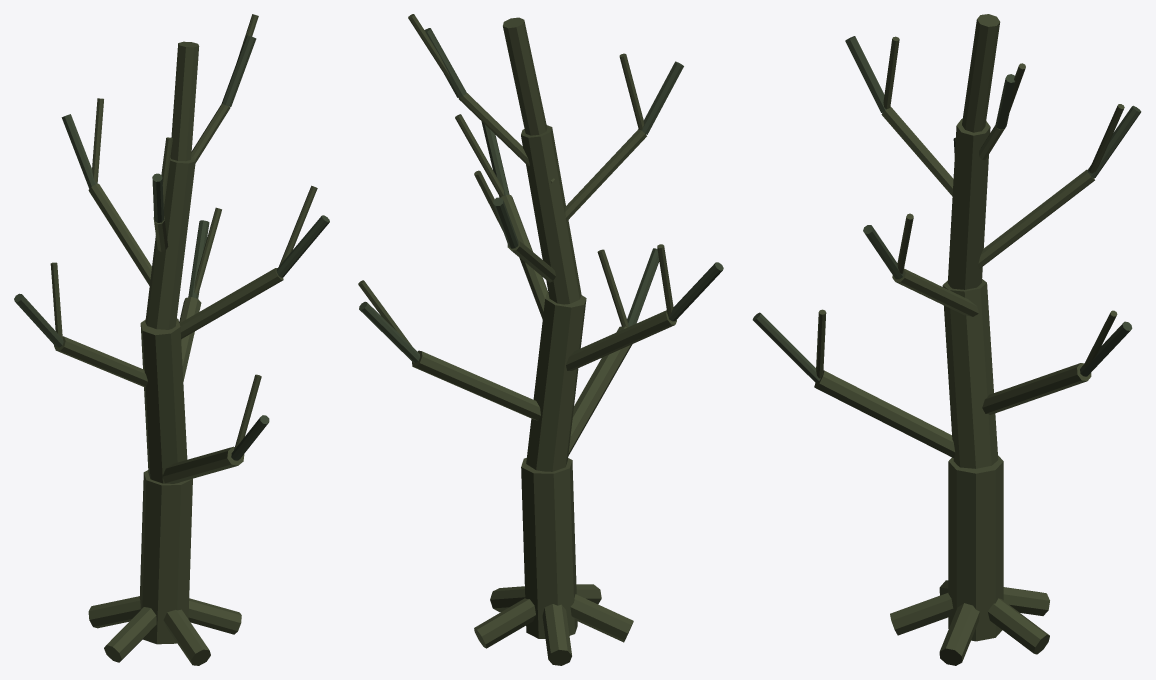
File: deadTrees.obj
The picture shows the model from 3 angles, left to right: view 1: azimuth 30°, elevation 25°; view 2: azimuth 150°, elevation 25°; view 3: azimuth 270°, elevation 25°; orthographic projection. The views are drawn at different scales.
Visible parts, largest first — view 1: deadTrees; view 2: deadTrees; view 3: deadTrees.
Boxes of the visible parts, bbox=[...] form: deadTrees: bbox=[14, 14, 329, 665]; deadTrees: bbox=[358, 14, 723, 665]; deadTrees: bbox=[752, 14, 1141, 665].
Size of the model in its own units: 2.78 by 5.57 by 3.1.
1 material, 1 textured.
